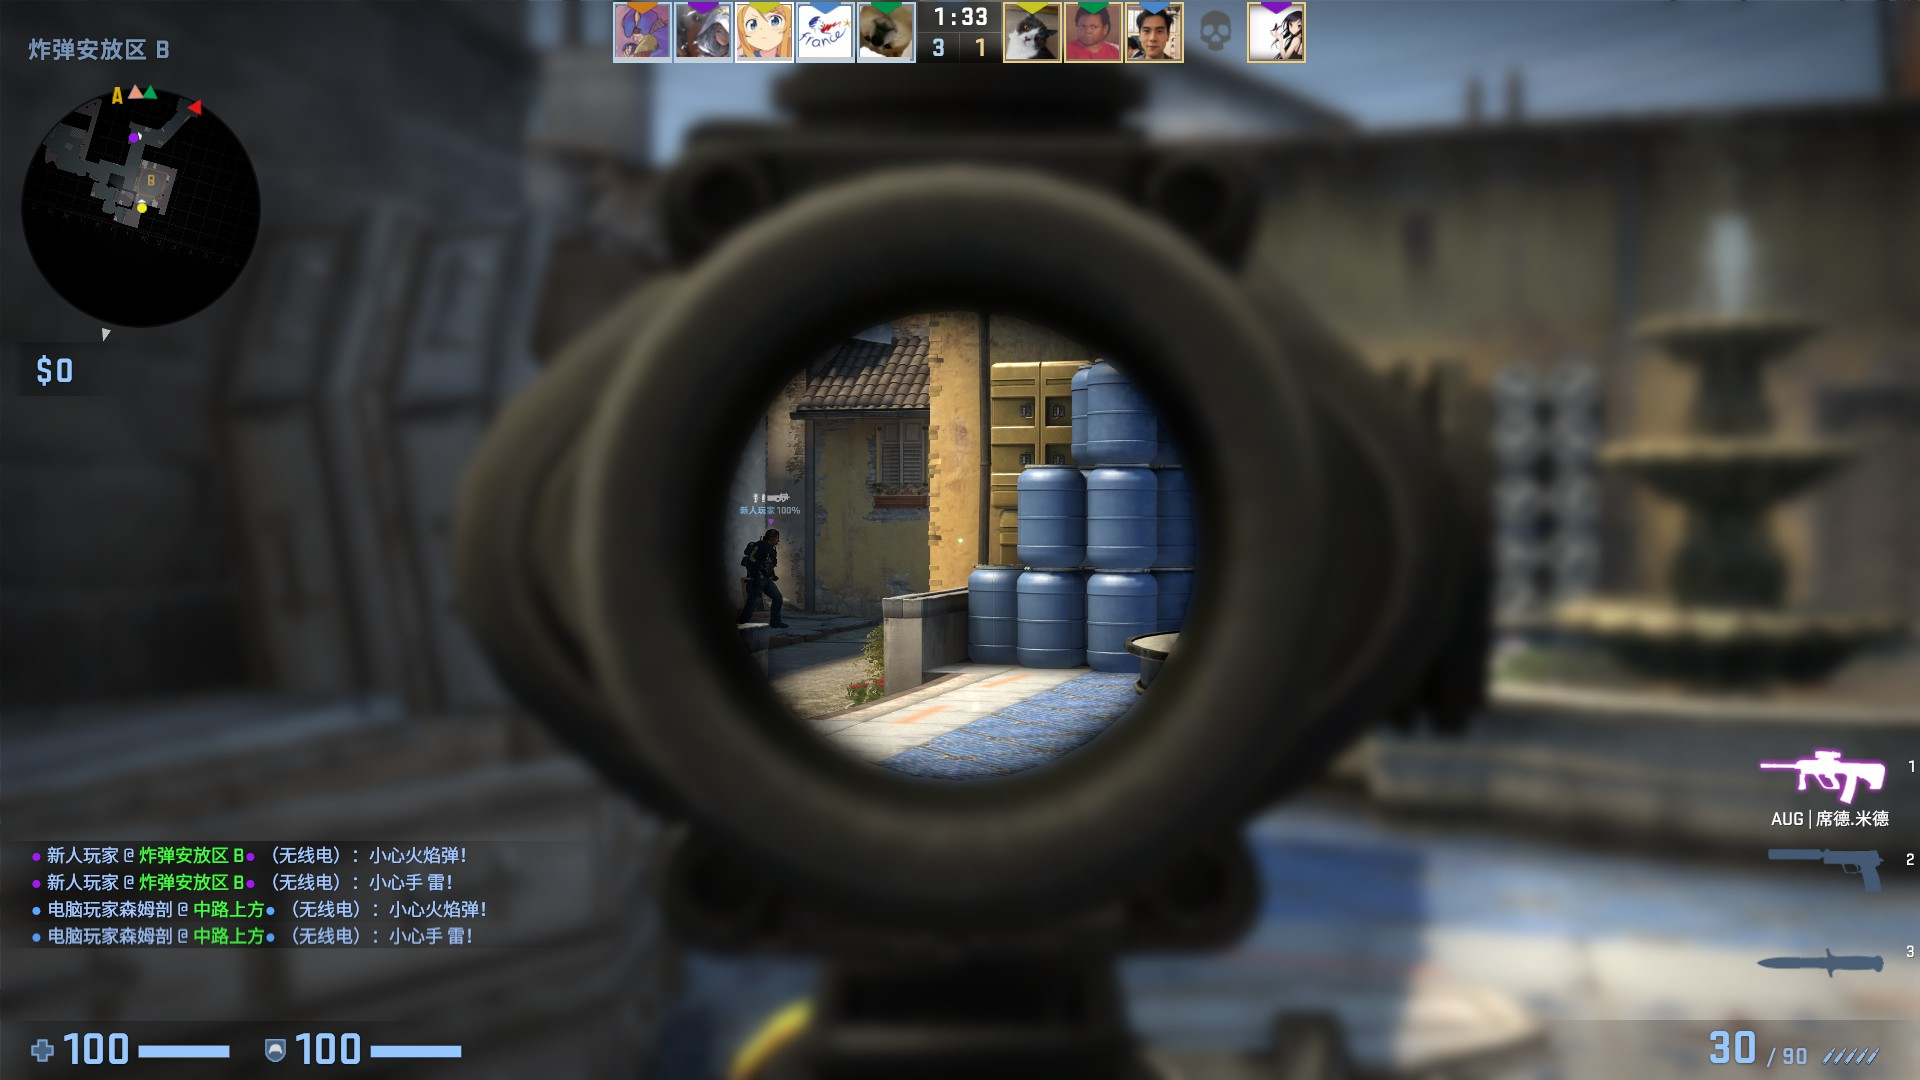head: (760, 526, 782, 549)
